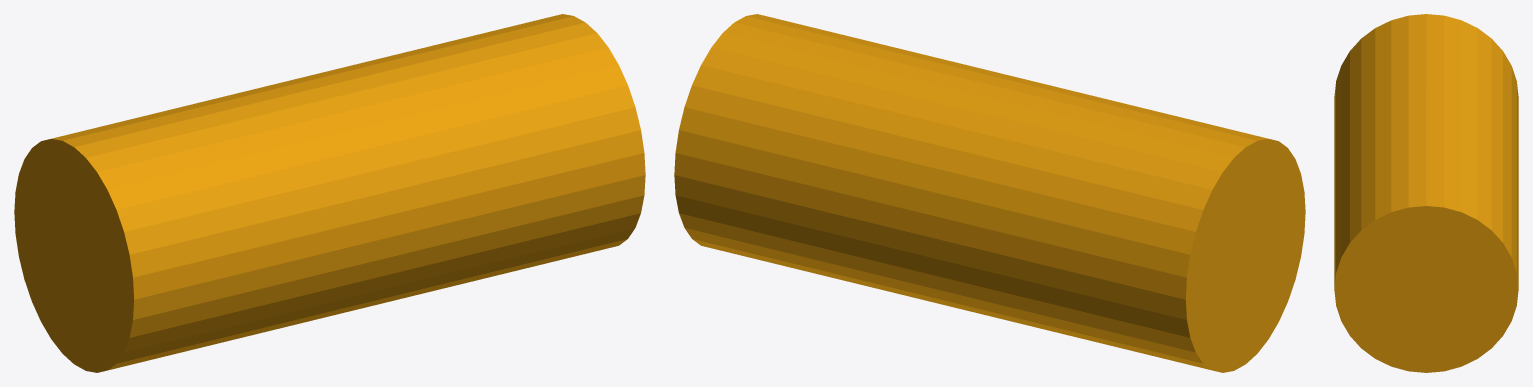
File: pistol bullet case empty.fbx
3 views of the same model, side by side, from view 1: azimuth 30°, elevation 25°; view 2: azimuth 150°, elevation 25°; view 3: azimuth 270°, elevation 25° (orthographic). The views are drawn at different scales.
Parts seen in each view (by area): view 1: Case; view 2: Case; view 3: Case.
Part boxes in pixels (left/top/right/bottom): Case: left=14, top=14, right=645, bottom=372; Case: left=674, top=14, right=1305, bottom=372; Case: left=1334, top=14, right=1518, bottom=372.
Size of the model in its own units: 89.13 by 36.16 by 36.16.
